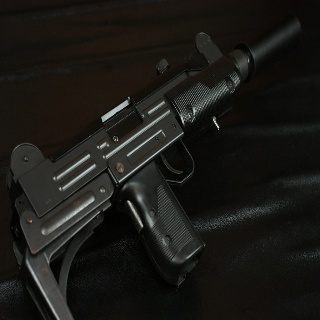rifle: (10, 16, 305, 320)
